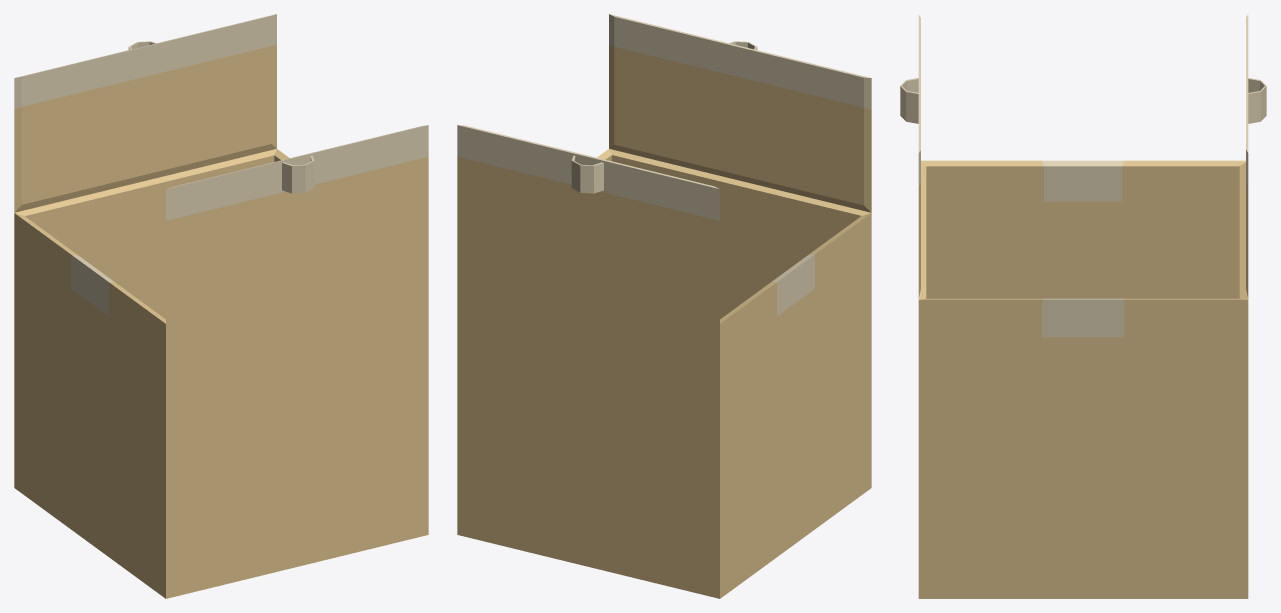
The model's file is Cardboard.fbx.
3 renders of one model, left to right at view 1: azimuth 30°, elevation 25°; view 2: azimuth 150°, elevation 25°; view 3: azimuth 270°, elevation 25°, orthographic. The views are drawn at different scales.
Parts seen in each view (by area): view 1: Box, LidLeft, LidRight; view 2: Box, LidRight, LidLeft; view 3: Box, LidRight, LidLeft.
Boxes of the visible parts, bbox=[...] form: Box: bbox=[14, 149, 428, 598]; LidLeft: bbox=[166, 125, 428, 323]; LidRight: bbox=[14, 14, 276, 212]; Box: bbox=[457, 149, 871, 598]; LidRight: bbox=[457, 125, 719, 323]; LidLeft: bbox=[609, 14, 871, 212]; Box: bbox=[918, 160, 1248, 598]; LidRight: bbox=[1246, 14, 1266, 298]; LidLeft: bbox=[900, 14, 920, 298].
Bounding box in the file's own units: 200 × 298 × 222.
